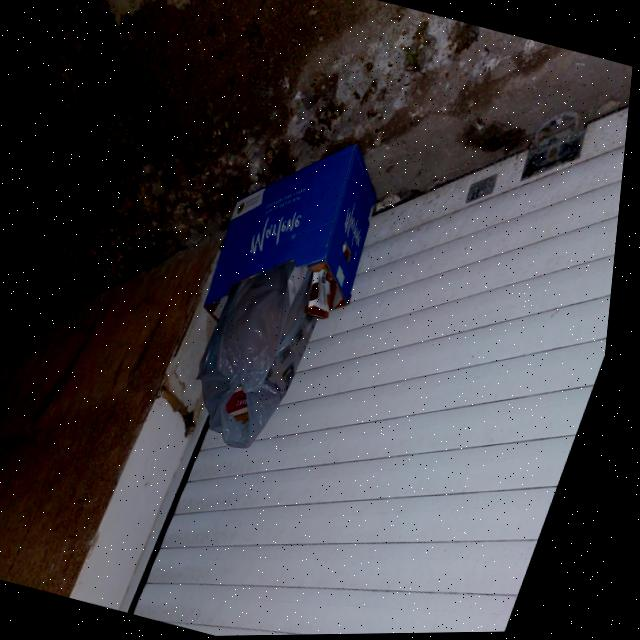Other: (195, 118, 410, 352)
Recycled Waste -Grey or Green Bag-: (178, 247, 340, 462)
